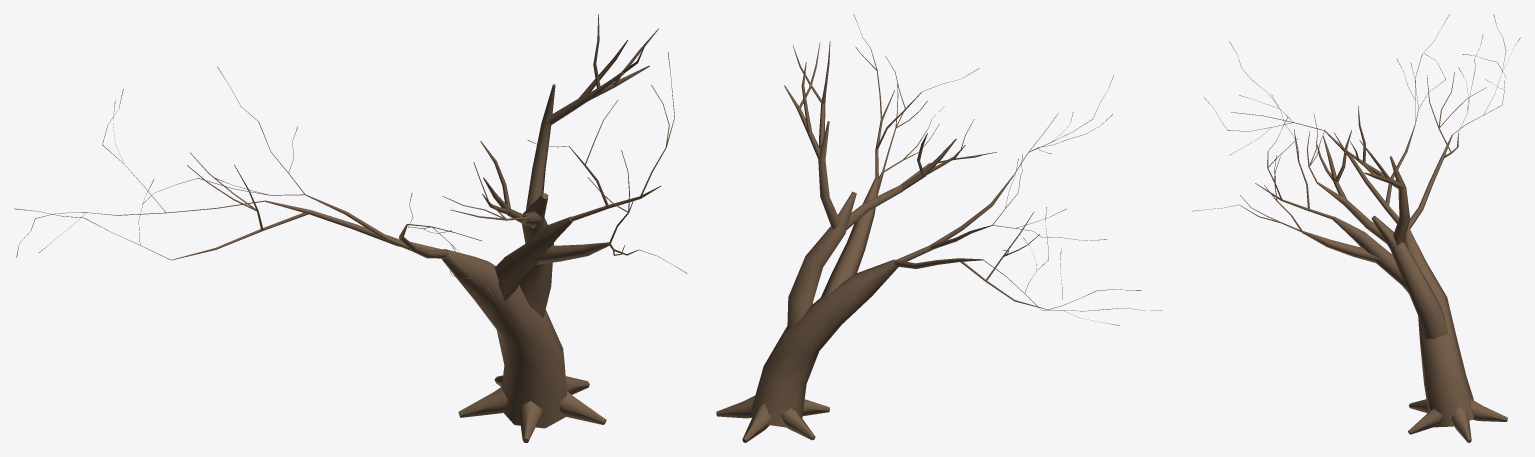
The model's file is DeadTree.fbx.
3 views of the same model, side by side, from view 1: azimuth 30°, elevation 25°; view 2: azimuth 150°, elevation 25°; view 3: azimuth 270°, elevation 25° (orthographic). The views are drawn at different scales.
Visible parts, largest first — view 1: DeadTree; view 2: DeadTree; view 3: DeadTree.
Part boxes in pixels (x1=…): DeadTree: x1=14, y1=14, x2=687, y2=442; DeadTree: x1=716, y1=14, x2=1162, y2=442; DeadTree: x1=1191, y1=14, x2=1520, y2=442.
Size of the model in its own units: 7.78 by 5.81 by 5.49.
